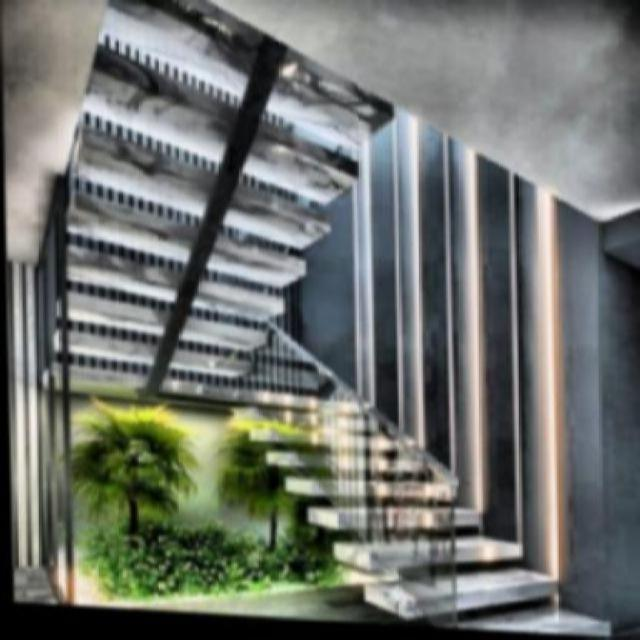stair: (286, 324, 600, 636)
